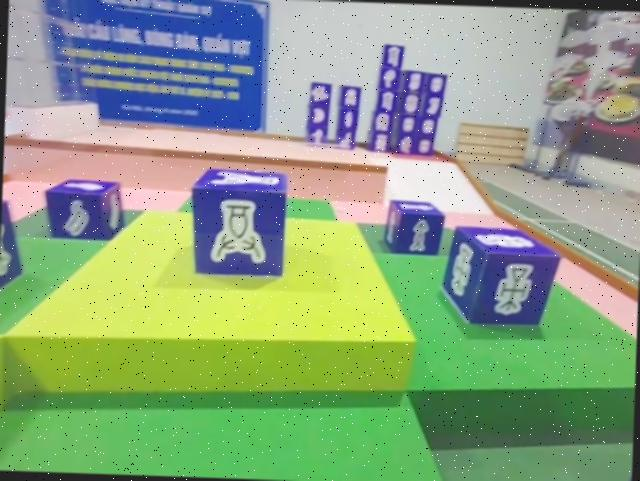R2 Real Blue: (442, 226, 561, 330), (185, 167, 289, 279), (42, 178, 126, 243), (380, 198, 443, 257), (0, 198, 24, 313)
